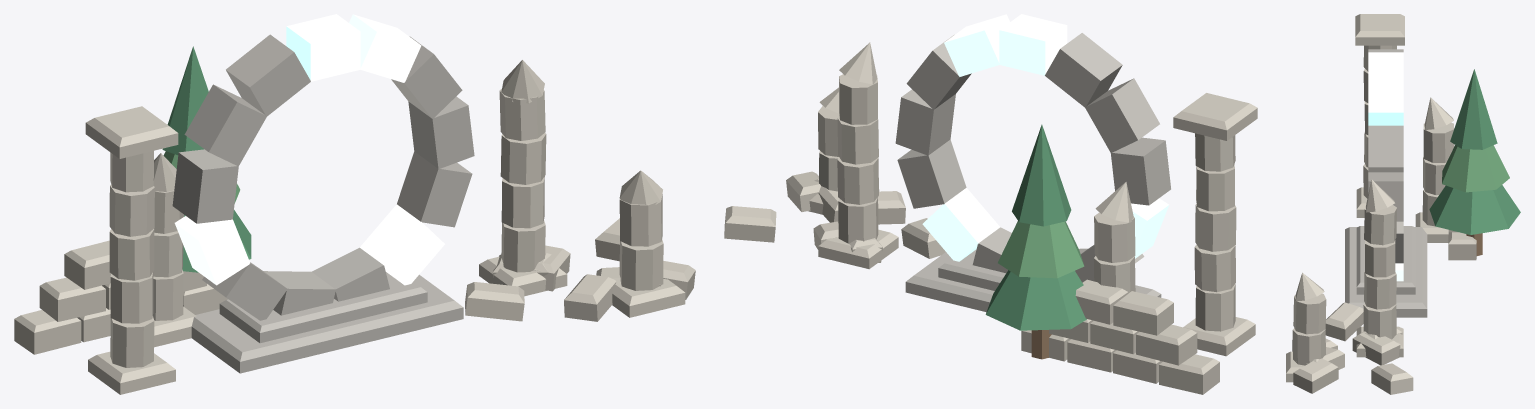
The model's file is props_back.glb.
The picture shows the model from 3 angles, left to right: view 1: azimuth 30°, elevation 25°; view 2: azimuth 150°, elevation 25°; view 3: azimuth 270°, elevation 25°; orthographic projection. The views are drawn at different scales.
Size of the model in its own units: 0.417 by 0.2058 by 0.1996.
